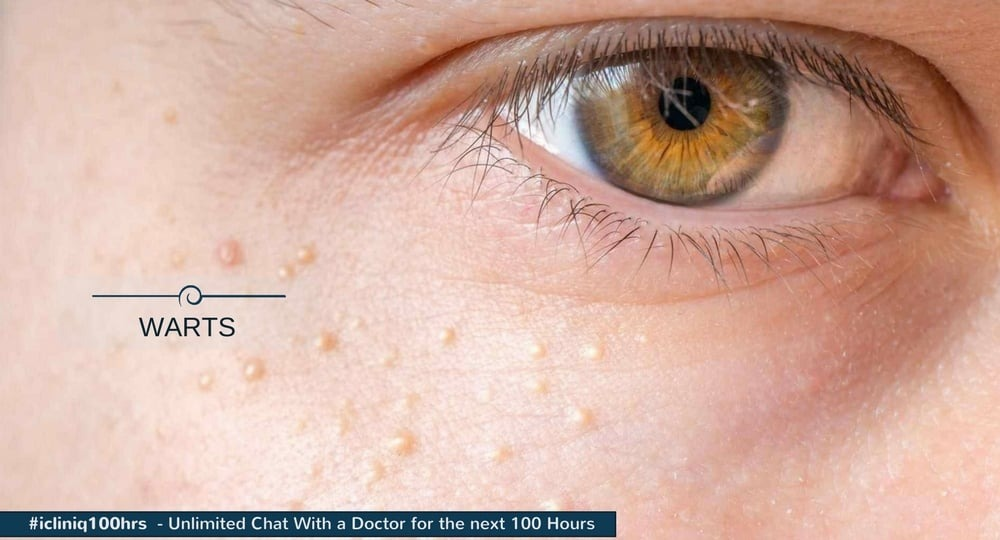Warts: (35, 0, 136, 226)
